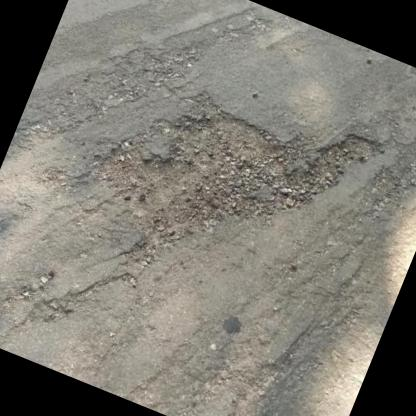pothole: (68, 58, 330, 302), (290, 119, 387, 232)
